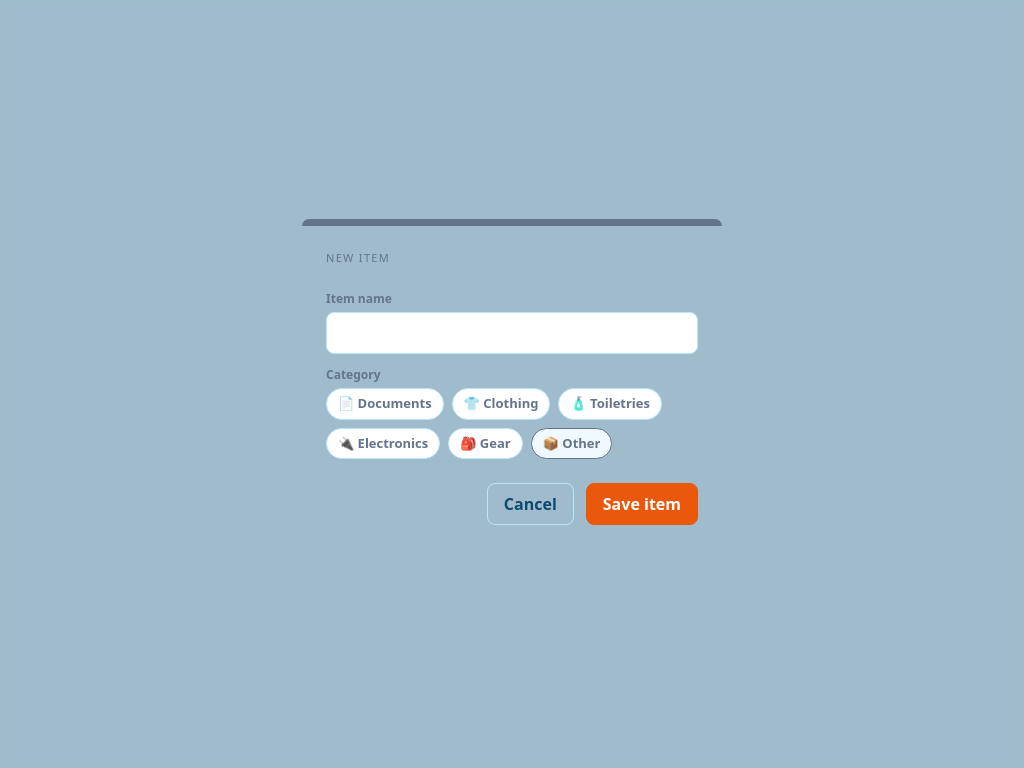
Test case: PackingItemEditorModal › blocks save when the title is empty
The image size is (1024, 768).
Click the button "Save item": (642, 504) [586, 483, 698, 525]
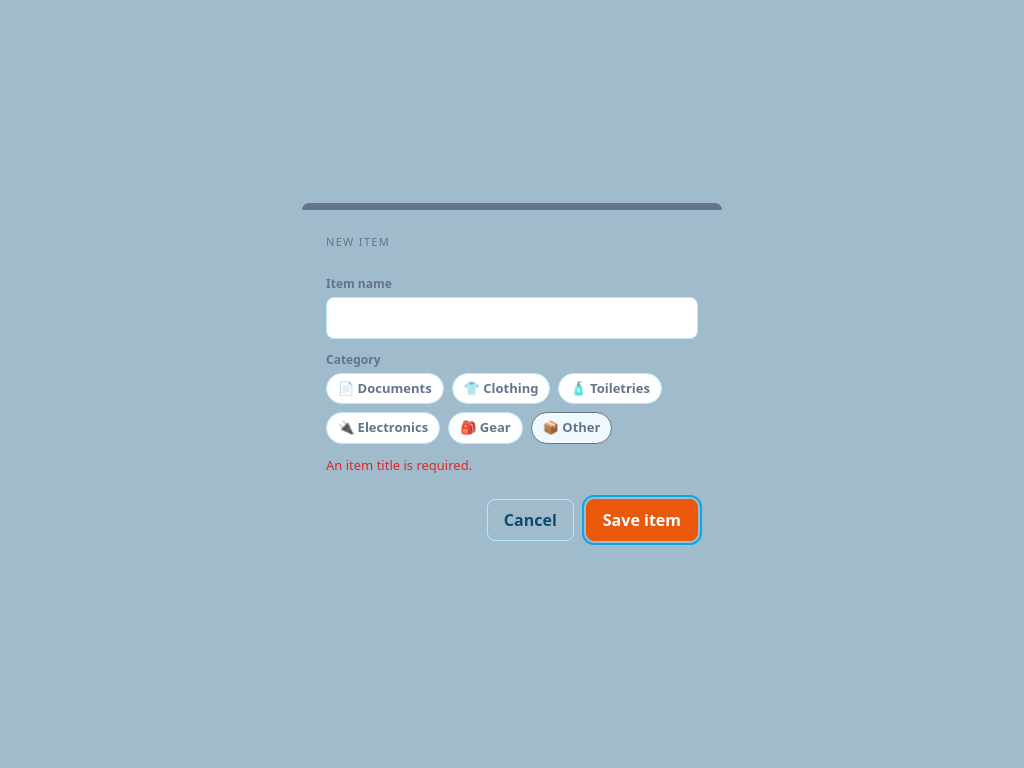
Expected: the message shows "title", [326, 456, 472, 474]
